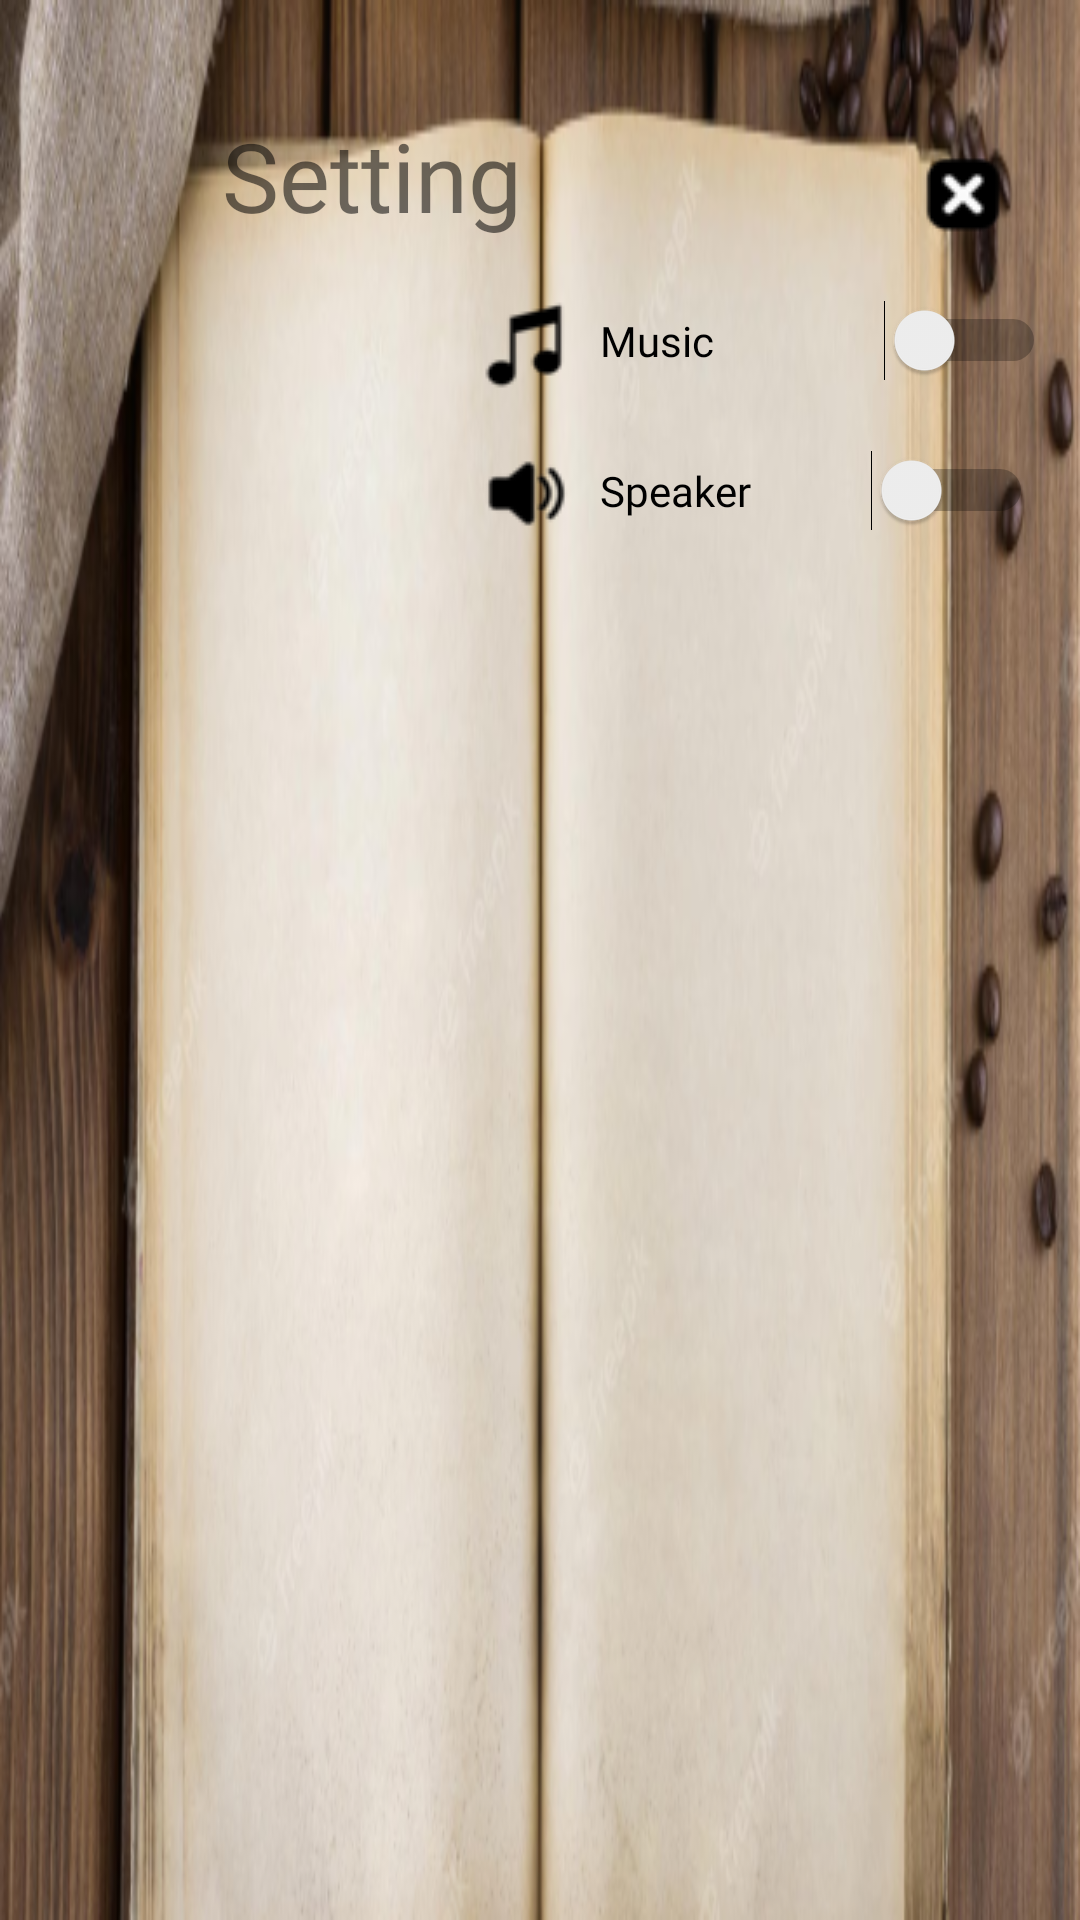

Where to tap for icons on this 1080 x 1920 app screen, as (x,y):
close: (963,193)
